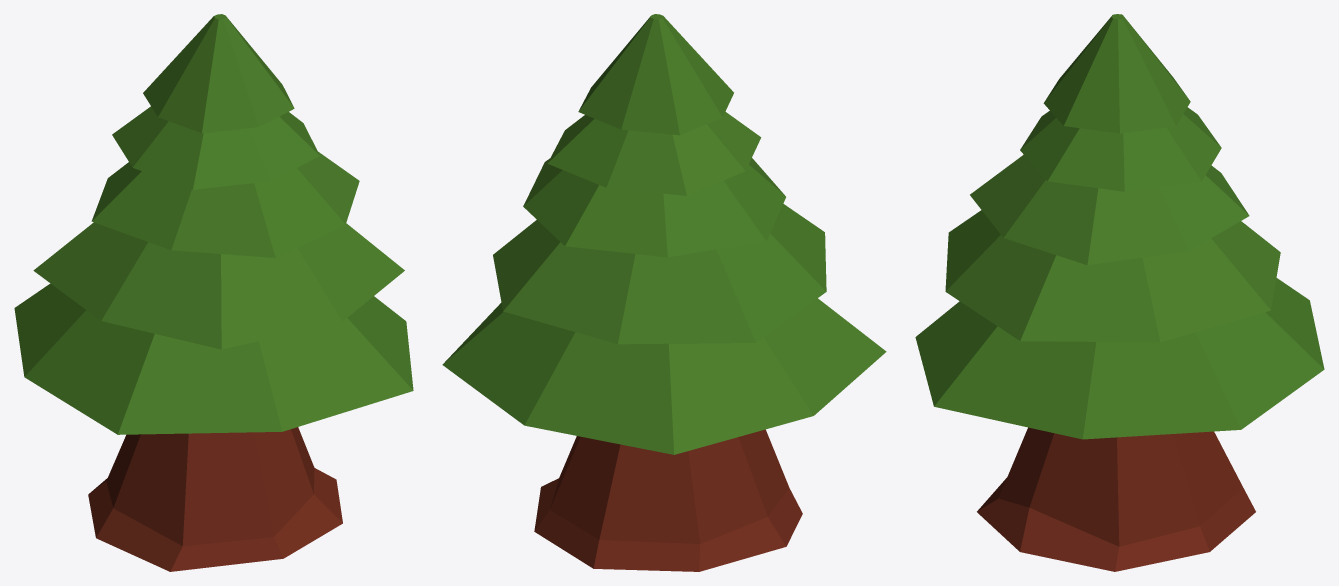
The model's file is choinka.fbx.
The picture shows the model from 3 angles, left to right: view 1: azimuth 30°, elevation 25°; view 2: azimuth 150°, elevation 25°; view 3: azimuth 270°, elevation 25°; orthographic projection. The views are drawn at different scales.
Parts seen in each view (by area): view 1: Cube.001, Cube.002, Cube, Cube.003, Cube.004, Cube.005; view 2: Cube.001, Cube.002, Cube, Cube.003, Cube.004, Cube.005; view 3: Cube.001, Cube, Cube.002, Cube.003, Cube.004, Cube.005.
Boxes of the visible parts, box(x1,y1,x2,y2) form: Cube.001: box(14, 283, 413, 434); Cube.002: box(33, 222, 404, 349); Cube: box(88, 427, 342, 571); Cube.003: box(91, 151, 359, 257); Cube.004: box(112, 106, 319, 189); Cube.005: box(143, 14, 294, 133); Cube.001: box(442, 298, 886, 454); Cube.002: box(493, 204, 826, 344); Cube: box(534, 429, 802, 571); Cube.003: box(523, 158, 785, 257); Cube.004: box(547, 112, 761, 195); Cube.005: box(578, 14, 733, 135); Cube.001: box(915, 278, 1324, 439); Cube: box(977, 427, 1255, 571); Cube.002: box(945, 210, 1280, 342); Cube.003: box(970, 154, 1249, 265); Cube.004: box(1020, 107, 1221, 191); Cube.005: box(1043, 14, 1190, 133).
Size of the model in its own units: 388 by 537 by 394.
